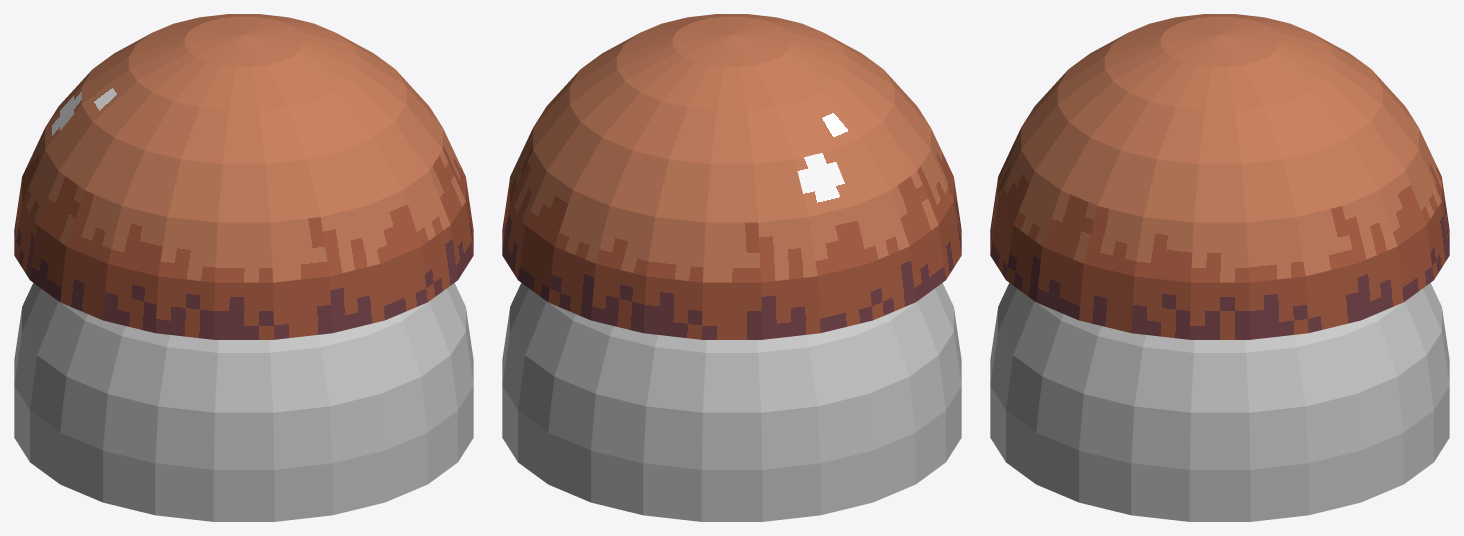
The model's file is GrassEnemies.fbx.
3 renders of one model, left to right at view 1: azimuth 30°, elevation 25°; view 2: azimuth 150°, elevation 25°; view 3: azimuth 270°, elevation 25°, orthographic.
Parts seen in each view (by area): view 1: sphere, SlimeMesh; view 2: sphere, SlimeMesh; view 3: sphere, SlimeMesh.
Part boxes in pixels (<box>): sphere: <box>14,14,473,339</box>; SlimeMesh: <box>14,283,473,521</box>; sphere: <box>502,14,961,339</box>; SlimeMesh: <box>502,283,961,521</box>; sphere: <box>990,14,1449,339</box>; SlimeMesh: <box>990,283,1449,521</box>.
Bounding box in the file's own units: 100 × 93.75 × 100.
2 materials, 1 textured.
